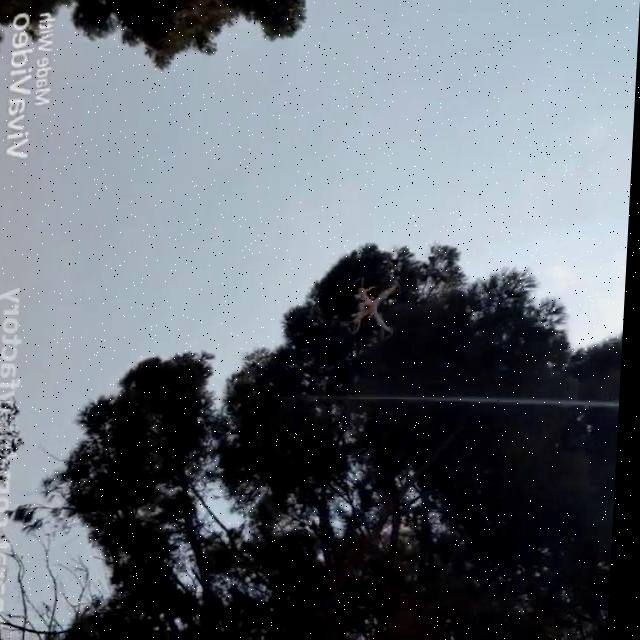drone: (349, 273, 406, 339)
